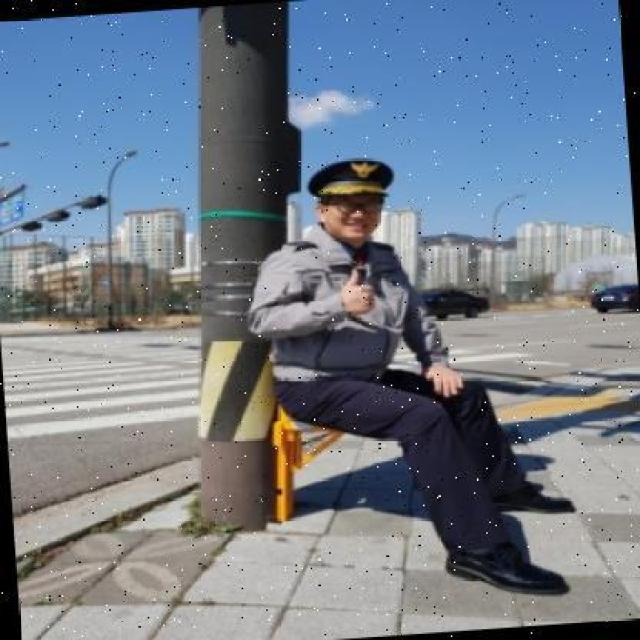-: (254, 152, 574, 614)
